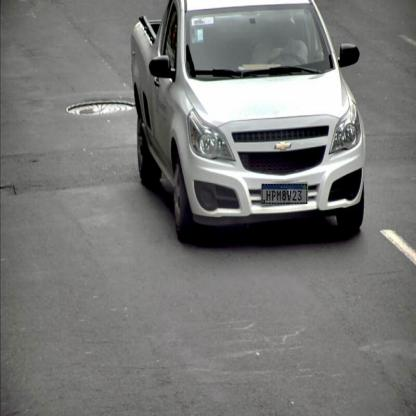PlacaM: (262, 184, 308, 204)
